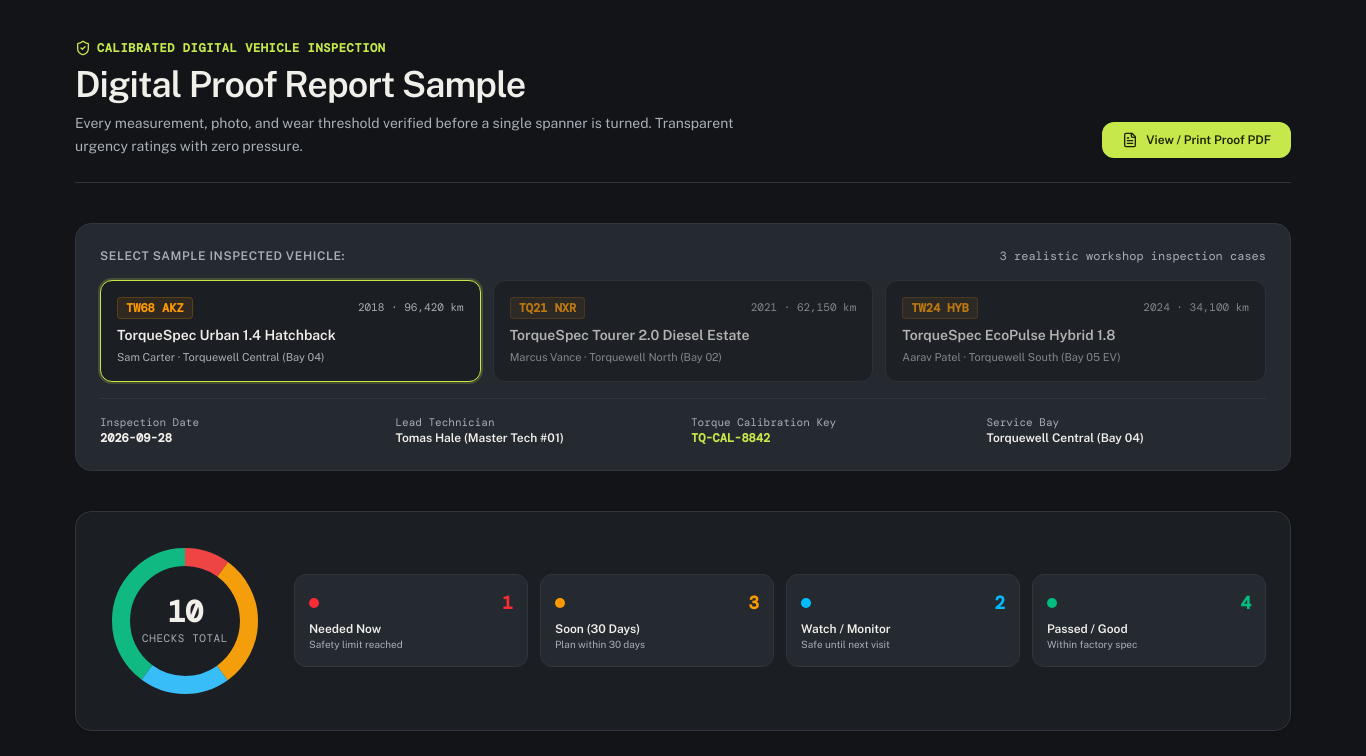
Test case: Digital Proof Report (Feature 03) › filters finding cards when clicking an urgency category in DonutSummary
Note: Click "Needed Now" filter button
Click the button "1 Needed Now Safety limit reached". click: (411, 621)
box: [294, 574, 528, 667]
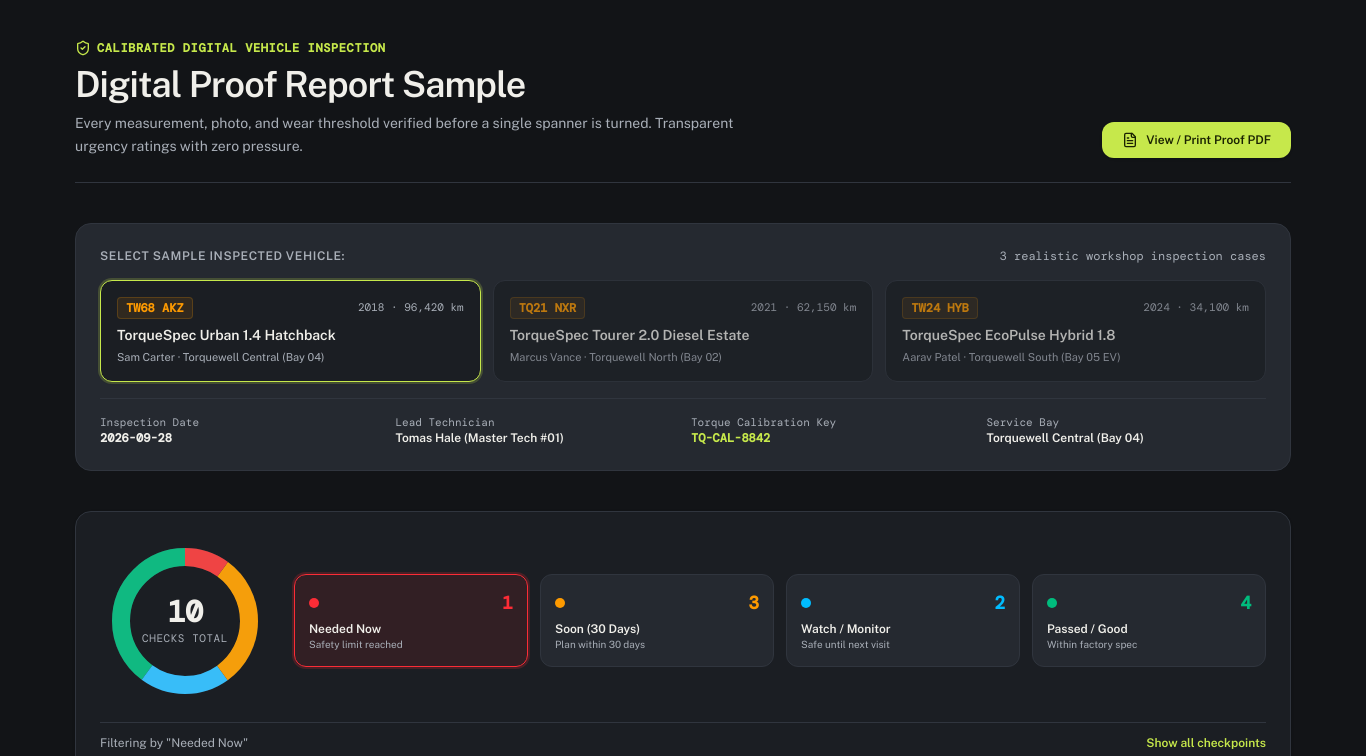
Expected: the text "Brake fluid hygroscopic moisture content elevated" is not shown
Note: Reset filter
Click the button "Show all checkpoints". click: (1206, 743)
box: [1146, 735, 1266, 751]
(page scrolled)
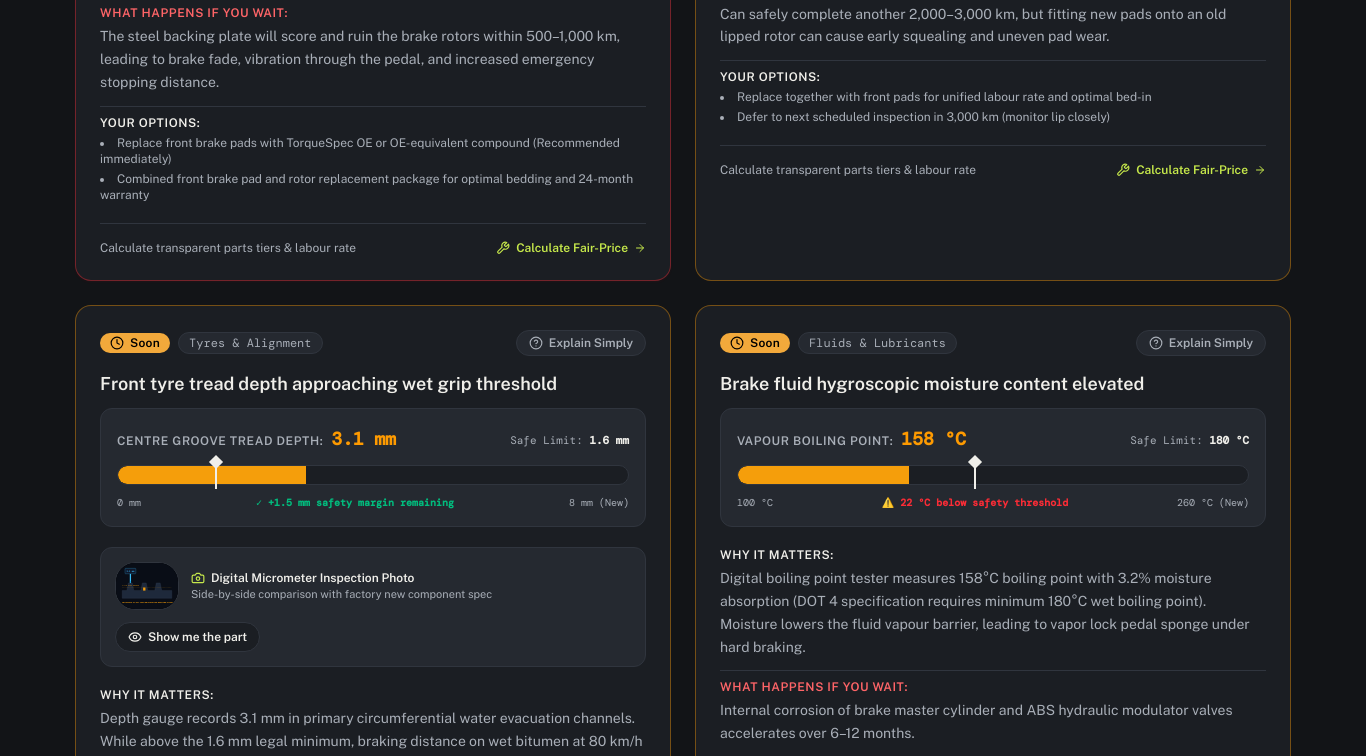
Result: the heading "Brake fluid hygroscopic moisture content elevated" is shown at [720, 373, 1144, 394]
